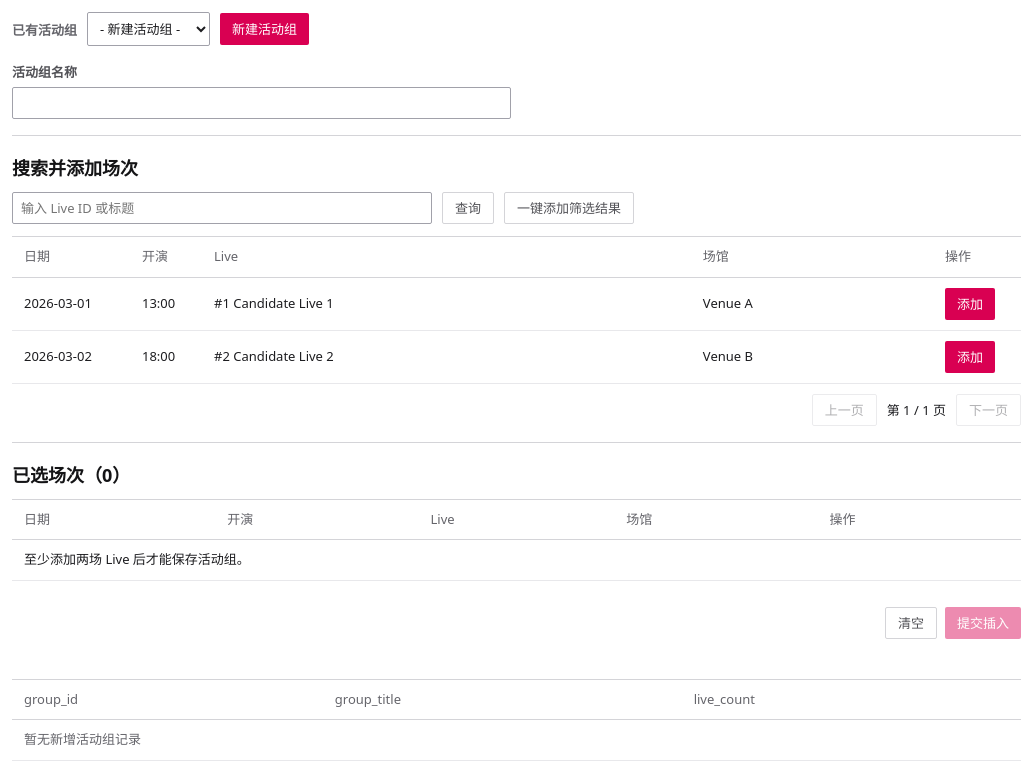
Test: PerformanceGroupAdminSection › selecting an existing group loads edit data into the form
The width and height of the screenshot is (1036, 780).
Select "#1 Edit Target" in the dropdown labelled "已有活动组" at (148, 29), box [87,12,210,46]
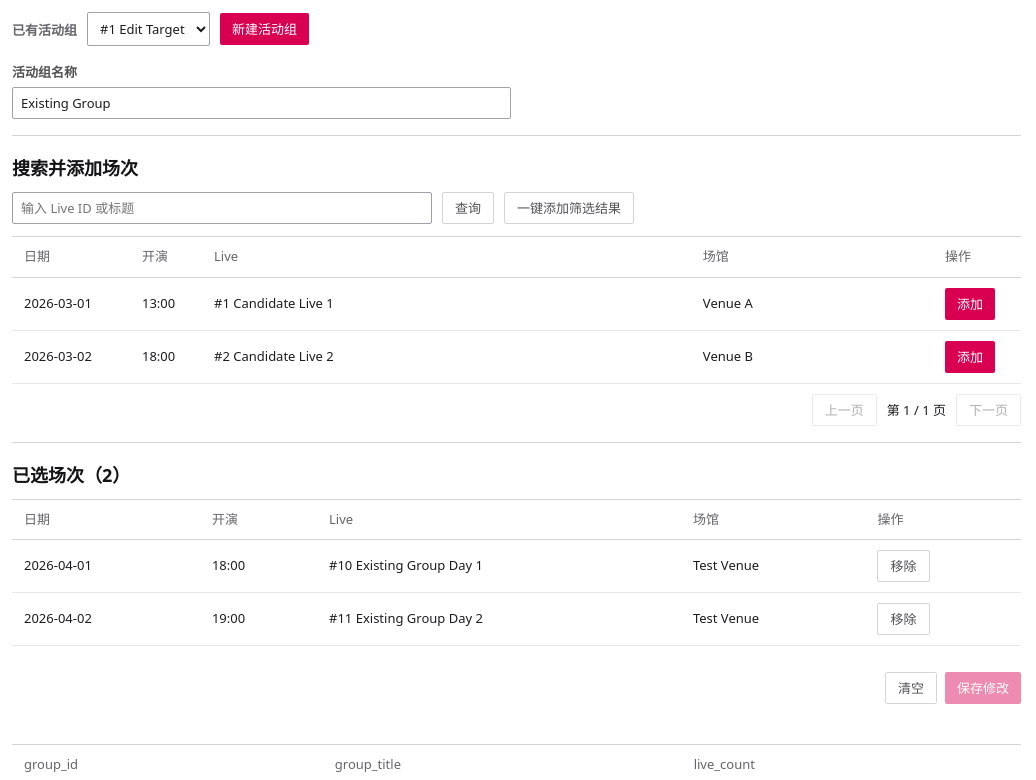
Expected: the field labelled "活动组名称" holds "Existing Group", [12,87,510,119]
